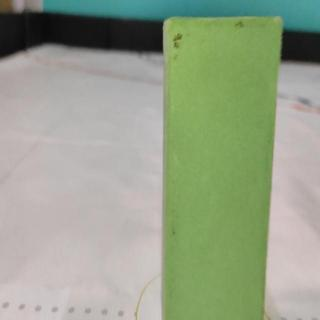greenbox: (162, 15, 281, 320)
